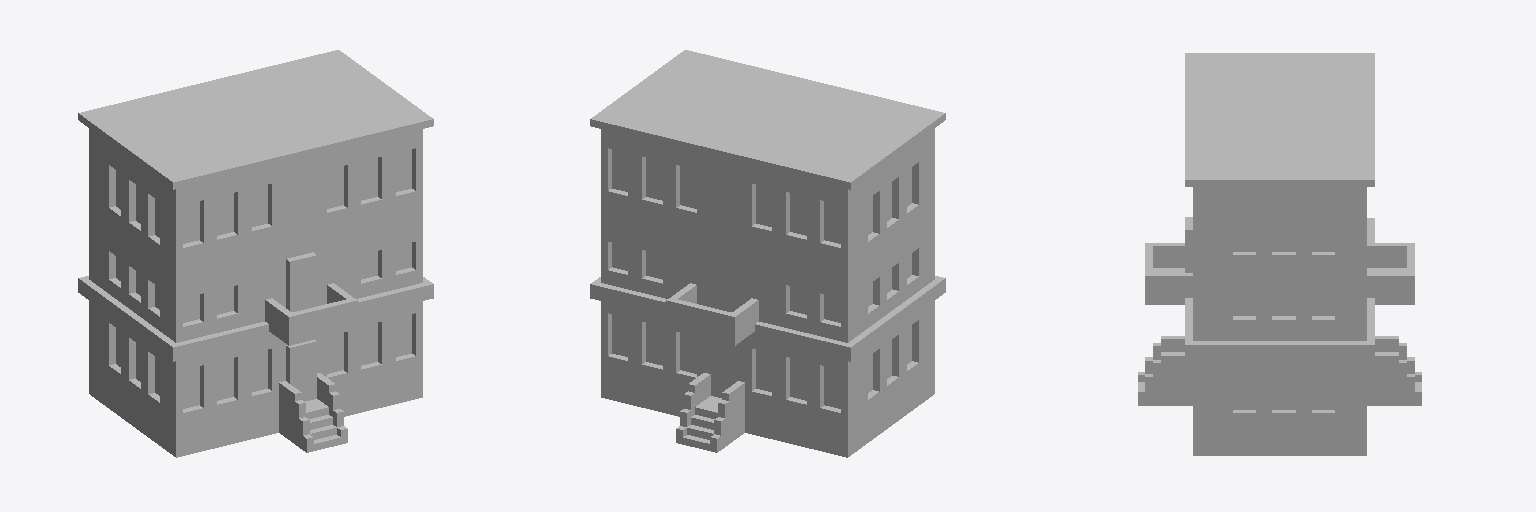
Rendered from edificio.obj.
3 renders of one model, left to right at view 1: azimuth 30°, elevation 25°; view 2: azimuth 150°, elevation 25°; view 3: azimuth 270°, elevation 25°, orthographic.
Parts seen in each view (by area): view 1: object 1; view 2: object 1; view 3: object 1.
Part boxes in pixels (x1,y1,x2,y2): object 1: (78, 50, 433, 457); object 1: (590, 50, 945, 457); object 1: (1138, 53, 1421, 455).
Bounding box in the file's own units: 3.8 × 3.9 × 3.6.